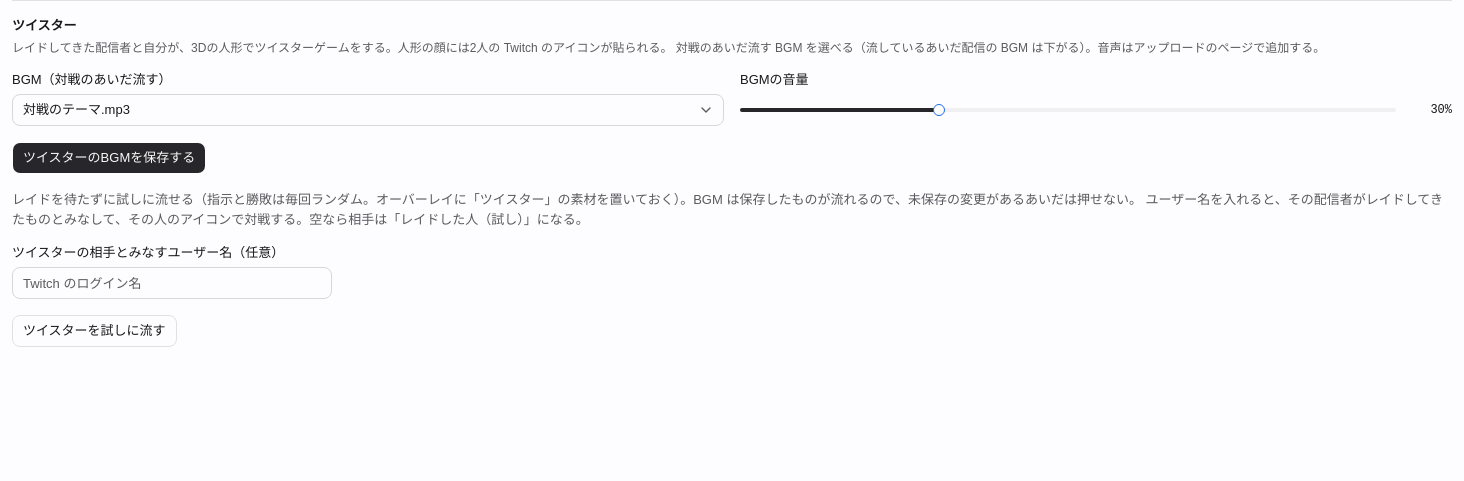
Test case: TwisterCard › 保存を断られたら、問題点を項目の名前に読み替えて1行ずつ出す
The width and height of the screenshot is (1464, 481).
Step 1. Select "ジャジャーン.mp3" in the dropdown labelled "BGM（対戦のあいだ流す）" → (368, 110), box [12,94,724,126]
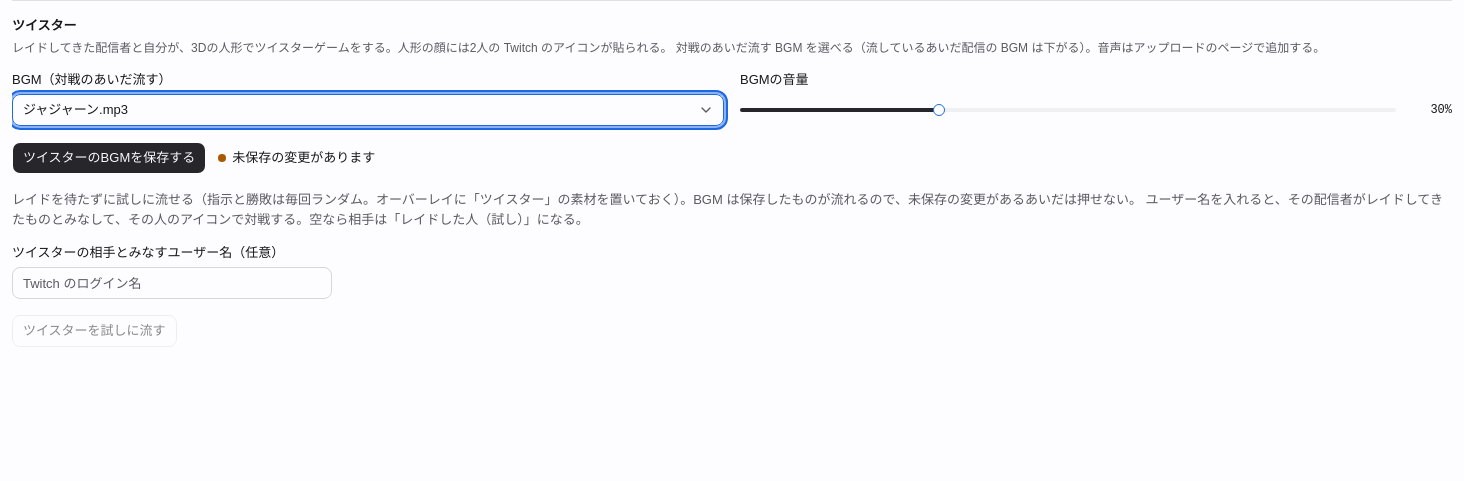
Step 2. Click the button "ツイスターのBGMを保存する" → (109, 158), box [12,142,206,174]
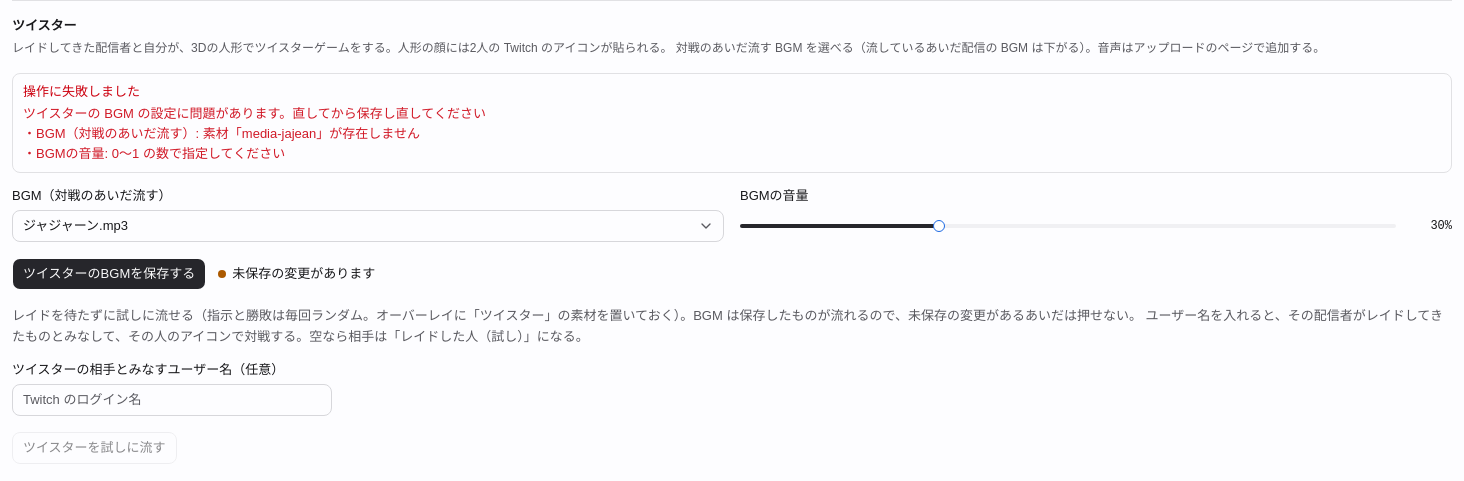
Expected: the text "・BGMの音量: 0〜1 の数で指定してください" is shown, [23,106,486,161]
